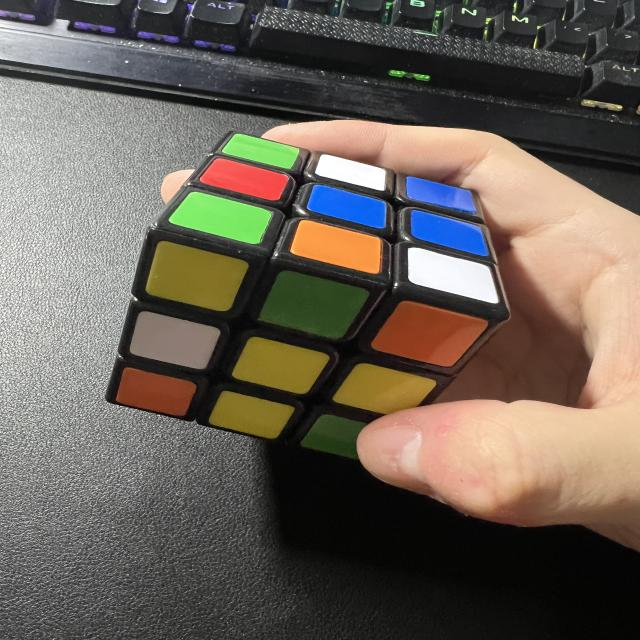blue: (405, 209, 492, 257), (401, 175, 484, 215)
center: (231, 333, 330, 398), (306, 183, 390, 229)
green: (259, 268, 367, 344), (169, 187, 272, 246), (302, 410, 369, 461), (222, 130, 300, 170)
orange: (370, 295, 489, 374), (290, 218, 387, 274), (114, 366, 196, 418)
red: (199, 154, 290, 203)
white: (400, 246, 507, 306), (129, 310, 220, 374), (313, 152, 389, 192)
yellow: (144, 240, 248, 315), (332, 358, 437, 424), (208, 389, 293, 443)
